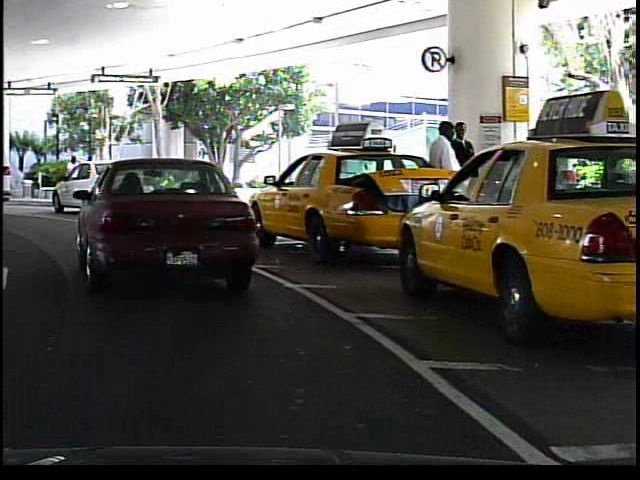person: (425, 118, 466, 243), (450, 117, 484, 237), (59, 152, 84, 197)
